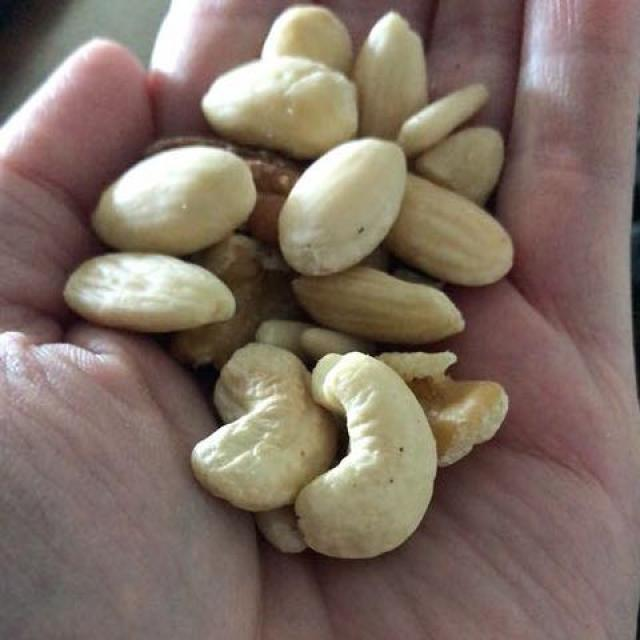mixed-nuts: (44, 32, 546, 579)
